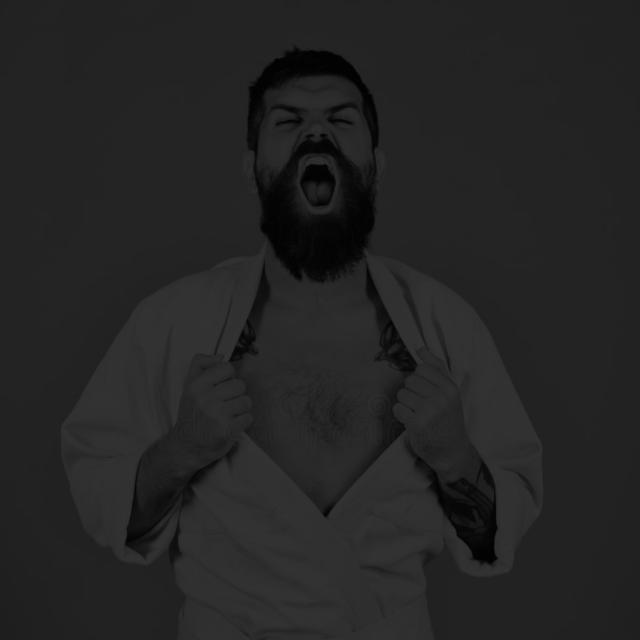Angry: (180, 57, 443, 276)
